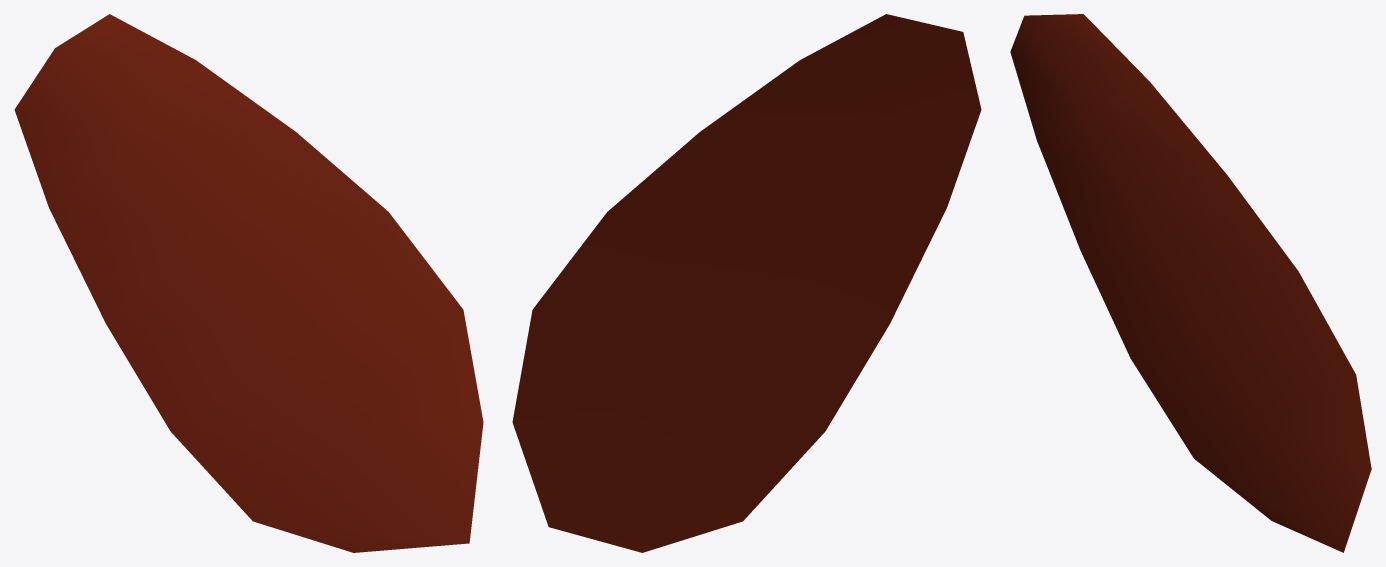
Rendered from pheasant_feather_flight_tertiary_034.obj.
3 views of the same model, side by side, from view 1: azimuth 30°, elevation 25°; view 2: azimuth 150°, elevation 25°; view 3: azimuth 330°, elevation 25° (orthographic). The views are drawn at different scales.
Visible parts, largest first — view 1: feather_flight_tertiary_034; view 2: feather_flight_tertiary_034; view 3: feather_flight_tertiary_034.
Boxes of the visible parts, bbox=[...] form: feather_flight_tertiary_034: bbox=[14, 14, 483, 552]; feather_flight_tertiary_034: bbox=[512, 14, 981, 552]; feather_flight_tertiary_034: bbox=[1010, 14, 1371, 552].
Size of the model in its own units: 0.0154 by 0.019 by 0.000634.
